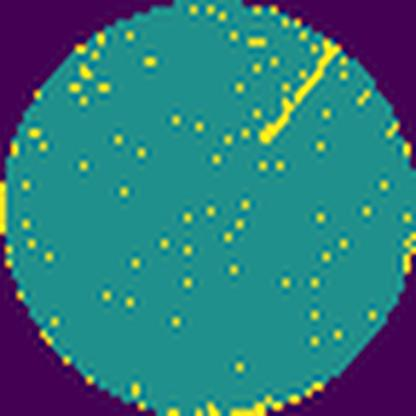Scratch: (257, 34, 345, 149)
